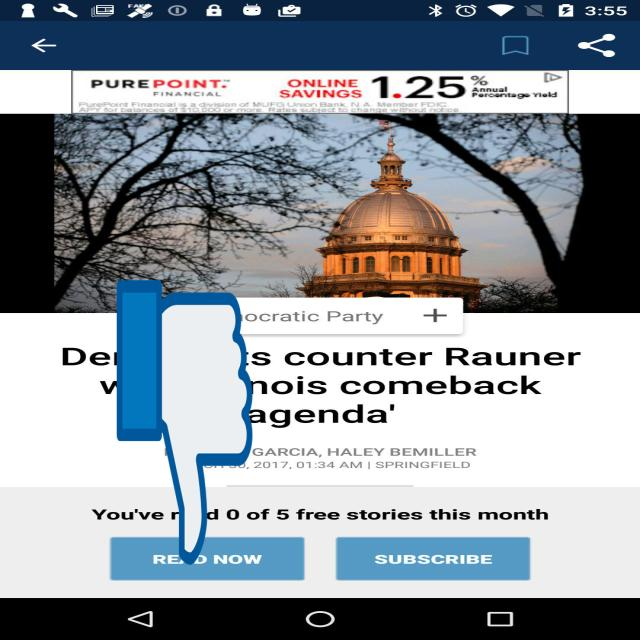obstruction: (117, 274, 252, 571)
